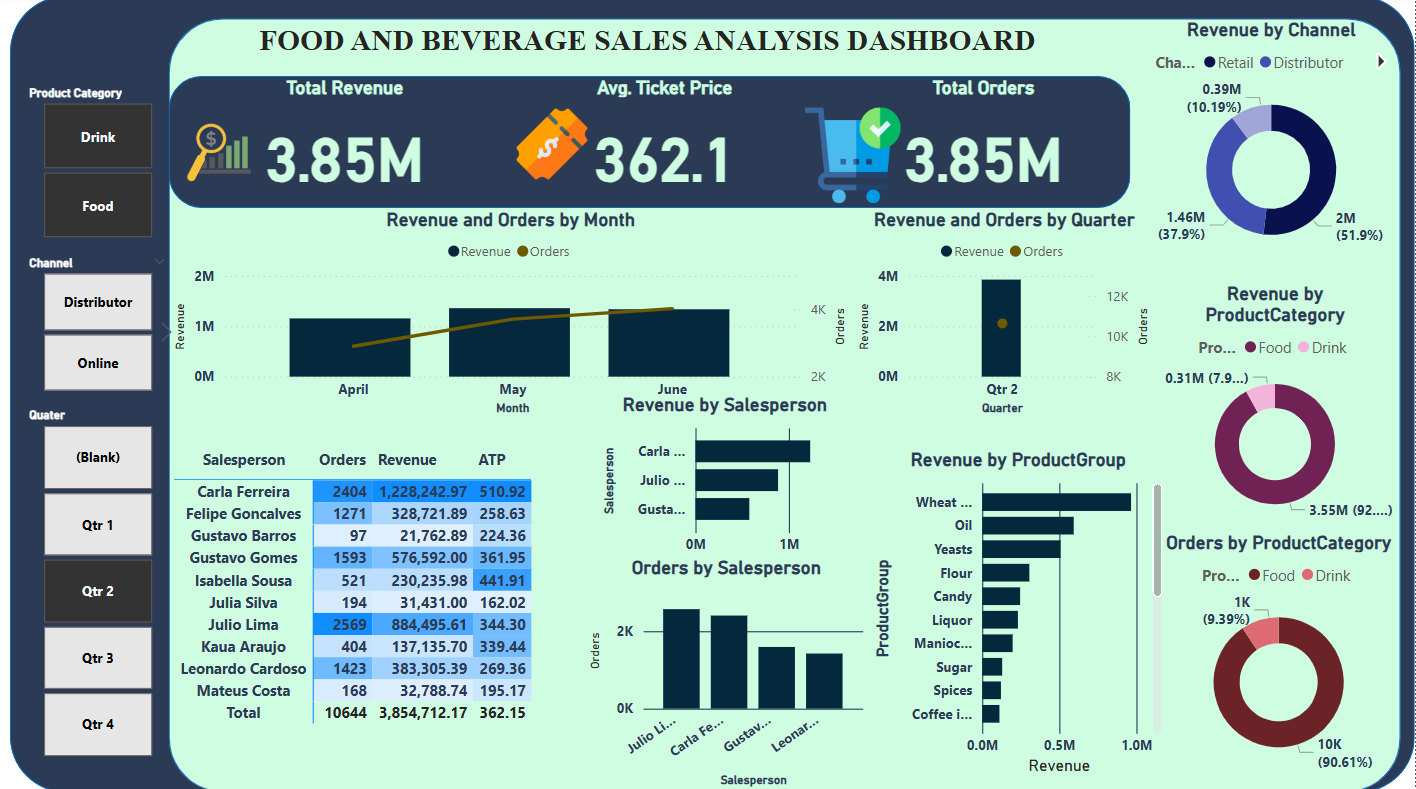

The dashboard page shown, as its layout file describes it:
{"tool":"powerbi","page":{"name":"Page 1","canvas":[1280,720],"ordinal":0},"visuals":[{"type":"shape","box":[9.6,0,1270.7,720.4],"z":0},{"type":"shape","box":[152.3,20.6,1114.2,699.8],"z":1000},{"type":"shape","box":[152.3,72.7,870,119.4],"z":2000},{"type":"card","title":"Total Revenue","fields":{"Values":["Product.Revenue"]},"box":[161.9,72.7,300.5,119.4],"z":3000},{"type":"card","title":"Avg. Ticket Price","fields":{"Values":["Product.ATP"]},"box":[450.8,72.7,300.5,119.4],"z":4000},{"type":"card","title":"Total Orders","fields":{"Values":["Product.Revenue"]},"box":[739.6,72.7,300.5,119.4],"z":5000},{"type":"donutChart","fields":{"Y":["Product.Revenue"],"Category":["Sheet1.Channel"]},"box":[1040.1,20.6,219.6,225],"z":6000},{"type":"donutChart","fields":{"Y":["Product.Revenue"],"Category":["Product.ProductCategory"]},"box":[1040.1,259.3,226.4,225],"z":7000},{"type":"donutChart","fields":{"Category":["Product.ProductCategory"],"Y":["Product.Orders"]},"box":[1047,484.4,219.6,225],"z":8000},{"type":"lineStackedColumnComboChart","fields":{"Y":["Product.Revenue"],"Y2":["Product.Orders"],"Category":["Sheet1.OrderDate.Variation.Date Hierarchy.Quarter"]},"box":[771.2,192.1,274.4,192.1],"z":9000},{"type":"barChart","fields":{"Y":["Product.Revenue"],"Category":["Product.ProductGroup"]},"box":[786.3,408.9,270.3,300.5],"z":10000},{"type":"lineStackedColumnComboChart","fields":{"Y":["Product.Revenue"],"Y2":["Product.Orders"],"Category":["Sheet1.OrderDate.Variation.Date Hierarchy.Month"]},"box":[152.3,192.1,618.9,192.1],"z":11000},{"type":"barChart","fields":{"Y":["Product.Revenue"],"Category":["Sheet1.Salesperson"]},"box":[540.7,359.5,230.5,155.1],"z":12000},{"type":"clusteredColumnChart","fields":{"Y":["Product.Orders"],"Category":["Sheet1.Salesperson"]},"box":[528.3,506.3,258,214.1],"z":13000},{"type":"pivotTable","fields":{"Rows":["Sheet1.Salesperson"],"Values":["Product.Orders","Product.Revenue","Product.ATP"]},"box":[152.3,403.4,366.4,273.1],"z":14000},{"type":"slicer","fields":{"Values":["Product.ProductCategory"]},"box":[13.7,75.5,148.2,149.6],"z":15000},{"type":"slicer","fields":{"Values":["Sheet1.Channel"]},"box":[13.7,229.2,148.2,134.5],"z":15001},{"type":"slicer","fields":{"Values":["Sheet1.OrderDate.Variation.Date Hierarchy.Quarter"]},"box":[13.7,367.8,148.2,326.6],"z":15002},{"type":"textbox","box":[229.2,20.6,772.6,54.9],"z":15003},{"type":"image","box":[152.3,86.4,91.9,113.9],"z":15004},{"type":"image","box":[720.4,96.1,102.9,96.1],"z":15005},{"type":"image","box":[462.4,93.3,74.1,79.6],"z":15006}]}

Visuals, with their boxes in screenshot pixels (x1, y1, x2, y2), scaled from the page's 1280x720 canvas onto the 1416x789 screenshot:
shape: {"x1": 11, "y1": 0, "x2": 1415, "y2": 788}
shape: {"x1": 168, "y1": 23, "x2": 1401, "y2": 788}
shape: {"x1": 168, "y1": 80, "x2": 1131, "y2": 211}
"Total Revenue" card: {"x1": 179, "y1": 80, "x2": 512, "y2": 211}
"Avg. Ticket Price" card: {"x1": 499, "y1": 80, "x2": 831, "y2": 211}
"Total Orders" card: {"x1": 818, "y1": 80, "x2": 1151, "y2": 211}
donutChart - Product.Revenue x Sheet1.Channel: {"x1": 1151, "y1": 23, "x2": 1394, "y2": 269}
donutChart - Product.Revenue x Product.ProductCategory: {"x1": 1151, "y1": 284, "x2": 1401, "y2": 531}
donutChart - Product.ProductCategory x Product.Orders: {"x1": 1158, "y1": 531, "x2": 1401, "y2": 777}
lineStackedColumnComboChart - Product.Revenue x Product.Orders: {"x1": 853, "y1": 211, "x2": 1157, "y2": 421}
barChart - Product.Revenue x Product.ProductGroup: {"x1": 870, "y1": 448, "x2": 1169, "y2": 777}
lineStackedColumnComboChart - Product.Revenue x Product.Orders: {"x1": 168, "y1": 211, "x2": 853, "y2": 421}
barChart - Product.Revenue x Sheet1.Salesperson: {"x1": 598, "y1": 394, "x2": 853, "y2": 564}
clusteredColumnChart - Product.Orders x Sheet1.Salesperson: {"x1": 584, "y1": 555, "x2": 870, "y2": 788}
pivotTable - Sheet1.Salesperson x Product.Orders: {"x1": 168, "y1": 442, "x2": 574, "y2": 741}
slicer - Product.ProductCategory: {"x1": 15, "y1": 83, "x2": 179, "y2": 247}
slicer - Sheet1.Channel: {"x1": 15, "y1": 251, "x2": 179, "y2": 399}
slicer - Sheet1.OrderDate.Variation.Date Hierarchy.Quarter: {"x1": 15, "y1": 403, "x2": 179, "y2": 761}
textbox: {"x1": 254, "y1": 23, "x2": 1108, "y2": 83}
image: {"x1": 168, "y1": 95, "x2": 270, "y2": 219}
image: {"x1": 797, "y1": 105, "x2": 911, "y2": 211}
image: {"x1": 512, "y1": 102, "x2": 594, "y2": 189}
